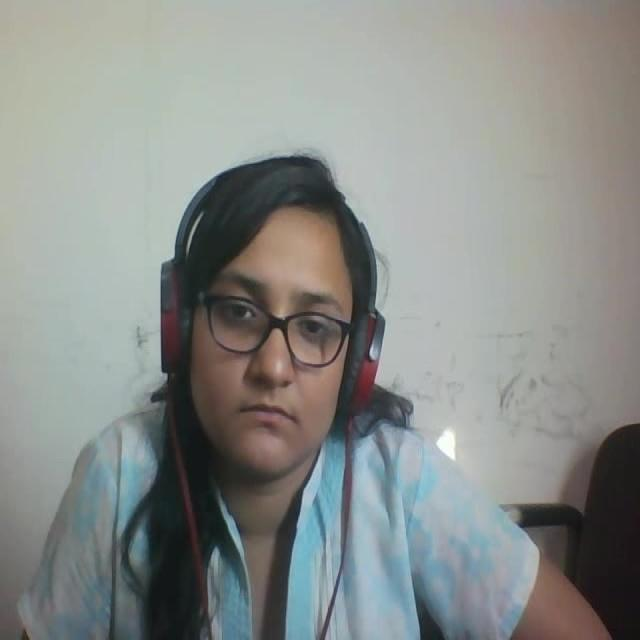Engaged: (159, 124, 407, 499)
